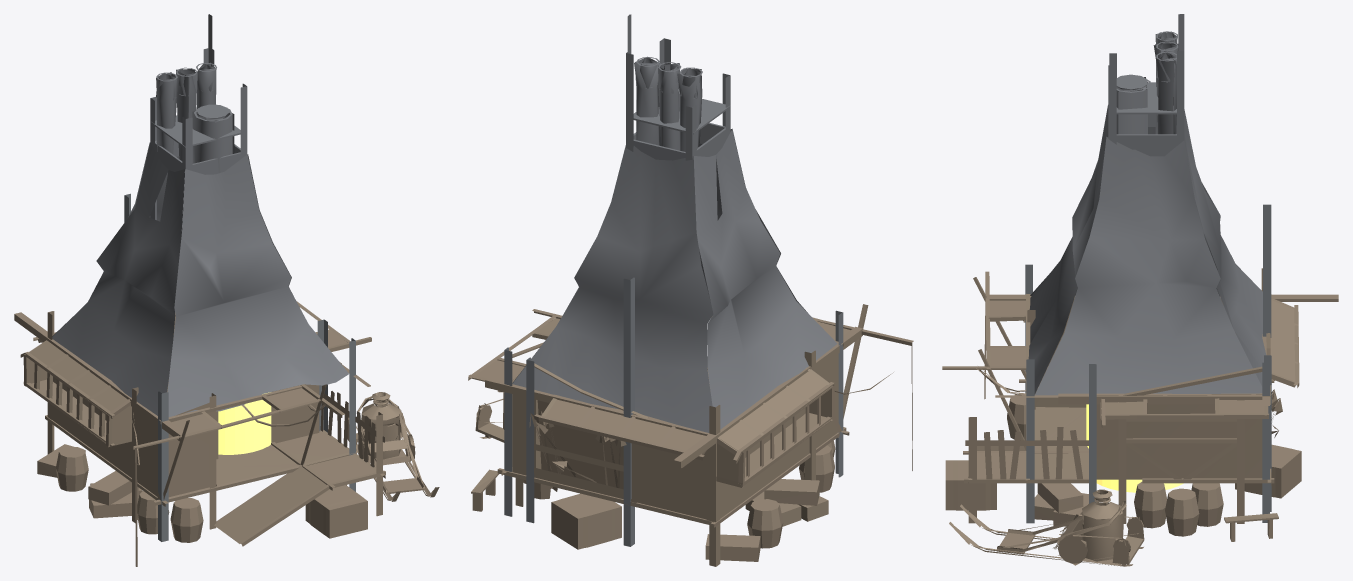
Rendered from hunter_hut.glb.
3 renders of one model, left to right at view 1: azimuth 30°, elevation 25°; view 2: azimuth 150°, elevation 25°; view 3: azimuth 270°, elevation 25°, orthographic. The views are drawn at different scales.
Parts seen in each view (by area): view 1: hunter_hut_Building; view 2: hunter_hut_Building; view 3: hunter_hut_Building.
Part boxes in pixels (x1,y1,x2,y2): hunter_hut_Building: (14, 14, 439, 566); hunter_hut_Building: (468, 14, 913, 566); hunter_hut_Building: (942, 14, 1338, 566).
Bounding box in the file's own units: 9.05 × 11.59 × 8.8.
